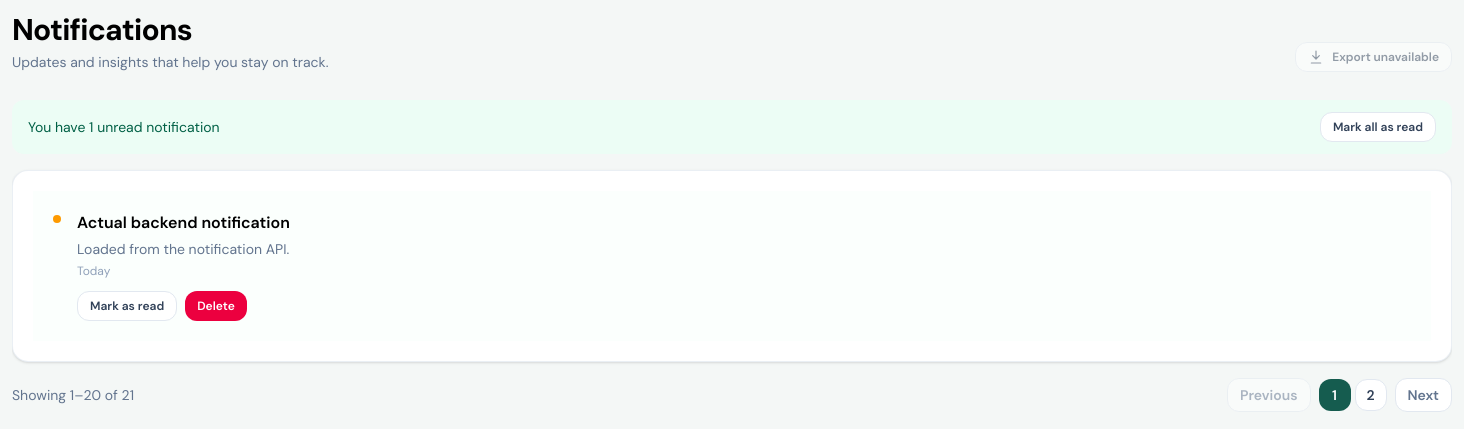
ClientNotifications › marks a notification as read from the page
Click the button "Mark as read".
click(127, 306)  # box [77, 291, 177, 321]
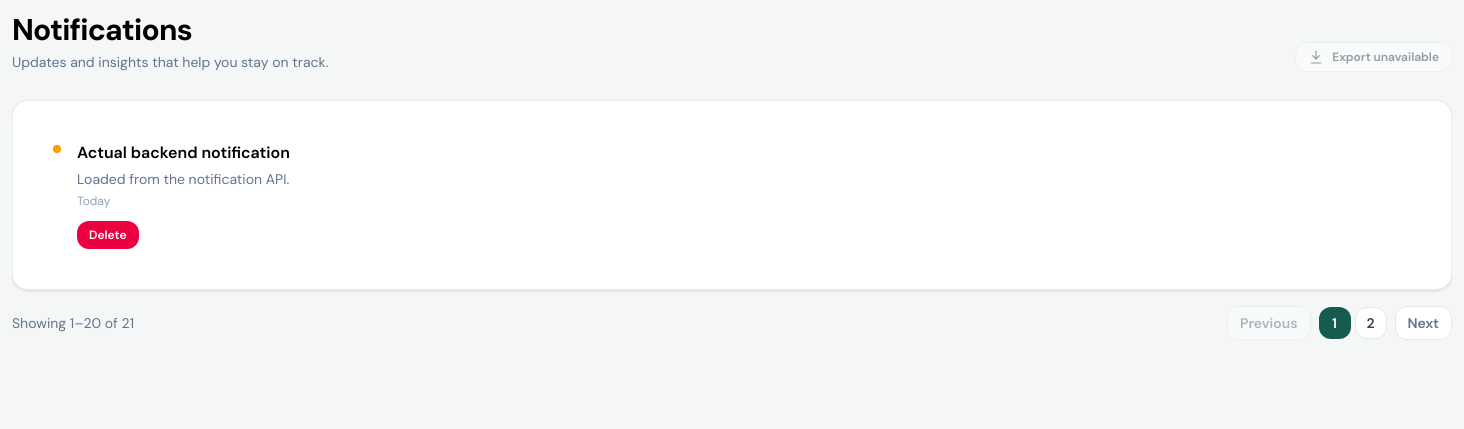
Expected: the element named "Read" is shown, [53, 145, 61, 153]
Result: the text "You have 1 unread notification" is gone
